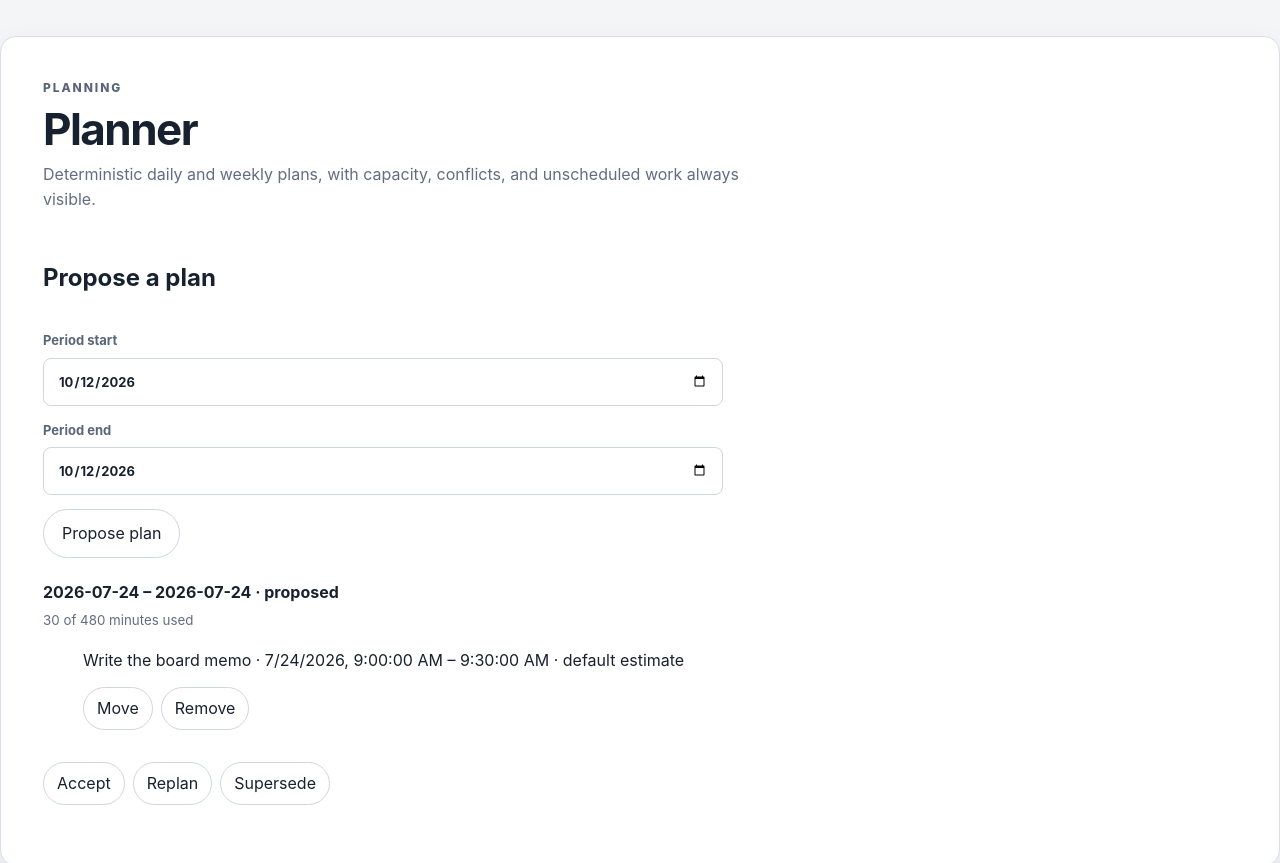
it: Planner › requires reviewing a diff before accepting a replan
The width and height of the screenshot is (1280, 863).
Click the button with aria-label "Replan 2026-07-24". click: (172, 783)
box: [133,762,212,805]
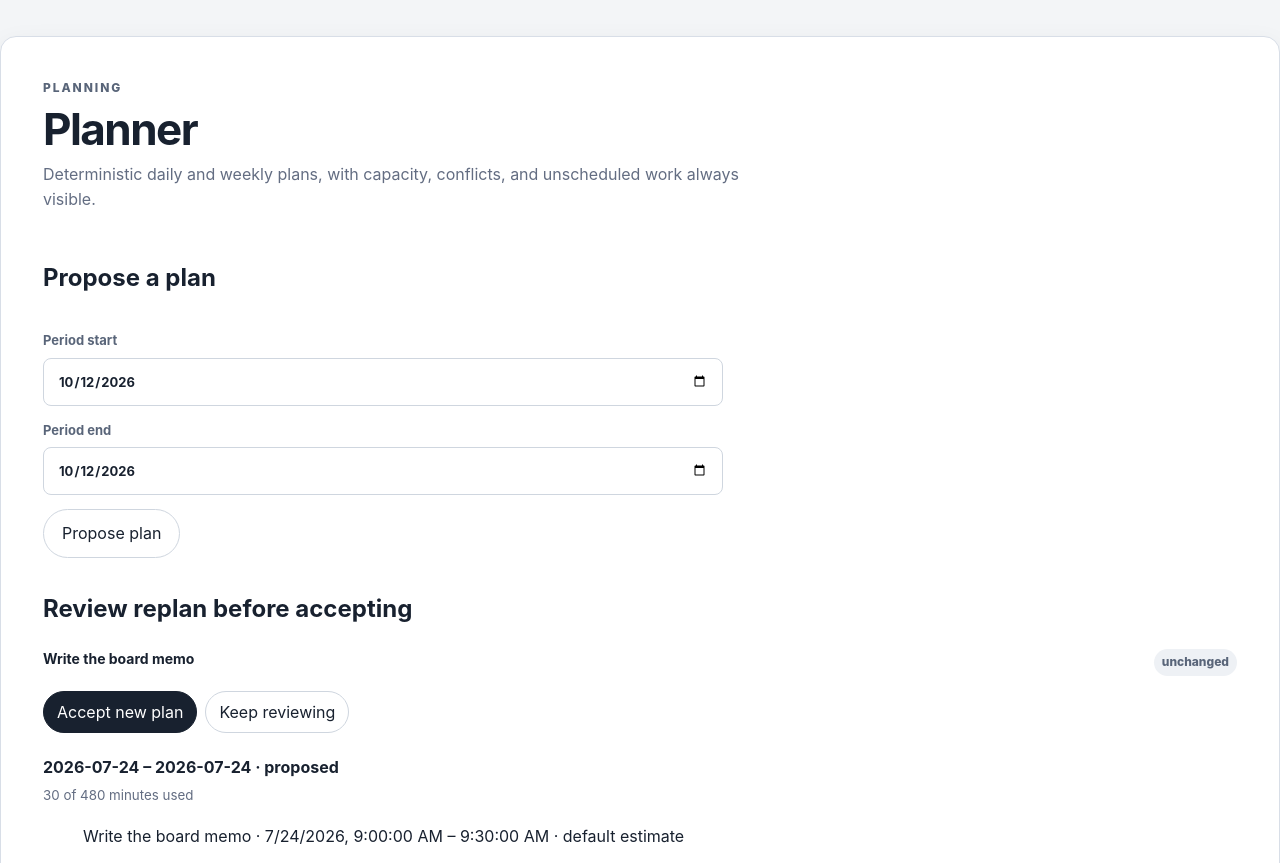
Now the heading "Review replan before accepting" is shown, box [43,594,412,623]
Now the text "unchanged" is shown, box [1154,649,1237,676]
Now the button "Accept new plan" is shown, box [43,690,197,733]
